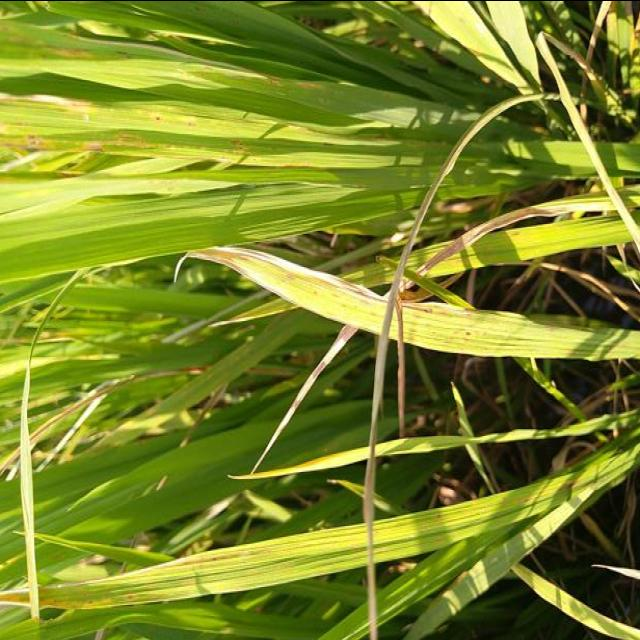Leaf Blight: (366, 94, 533, 640), (175, 244, 392, 334), (251, 323, 358, 472)
